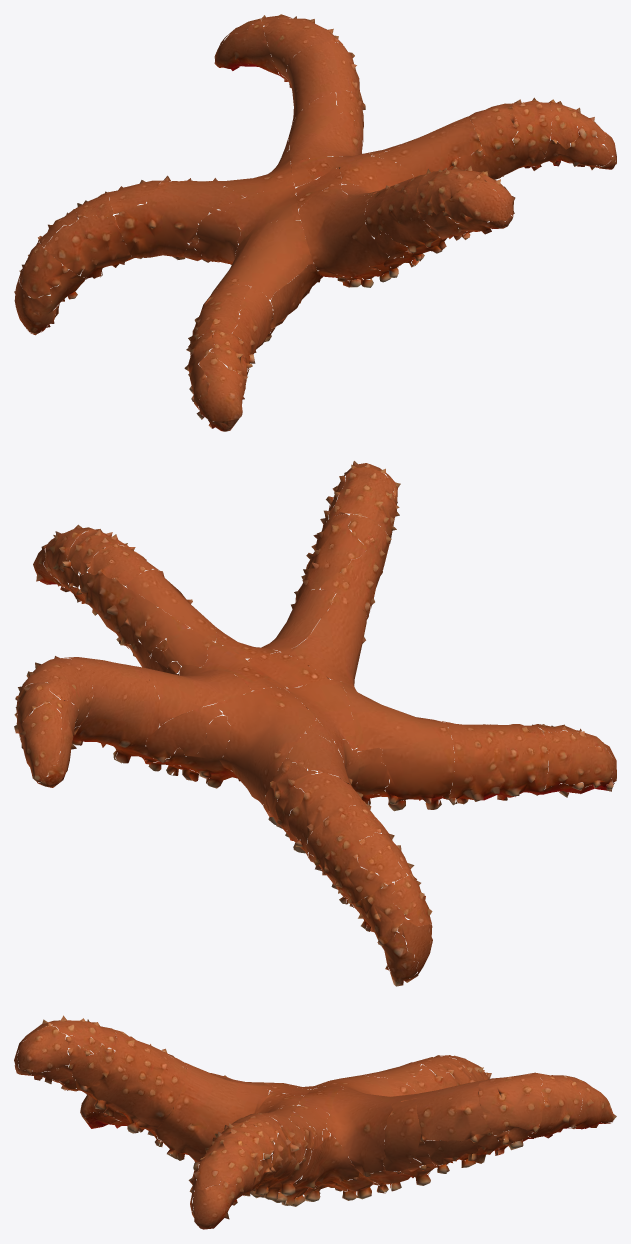
The model's file is starfish.glb.
The picture shows the model from 3 angles, top to bottom: view 1: azimuth 30°, elevation 25°; view 2: azimuth 150°, elevation 25°; view 3: azimuth 270°, elevation 25°; orthographic projection. The views are drawn at different scales.
Visible parts, largest first — view 1: tripo_node_d95bd3cb-c1b9-475d-a31d-38234869cc3f; view 2: tripo_node_d95bd3cb-c1b9-475d-a31d-38234869cc3f; view 3: tripo_node_d95bd3cb-c1b9-475d-a31d-38234869cc3f.
Boxes of the visible parts, x1,y1,x2,y2 form: tripo_node_d95bd3cb-c1b9-475d-a31d-38234869cc3f: [14, 14, 616, 431]; tripo_node_d95bd3cb-c1b9-475d-a31d-38234869cc3f: [14, 461, 616, 986]; tripo_node_d95bd3cb-c1b9-475d-a31d-38234869cc3f: [14, 1015, 616, 1229].
Bounding box in the file's own units: 0.9262 × 0.4734 × 1.
1 material, 1 textured.
